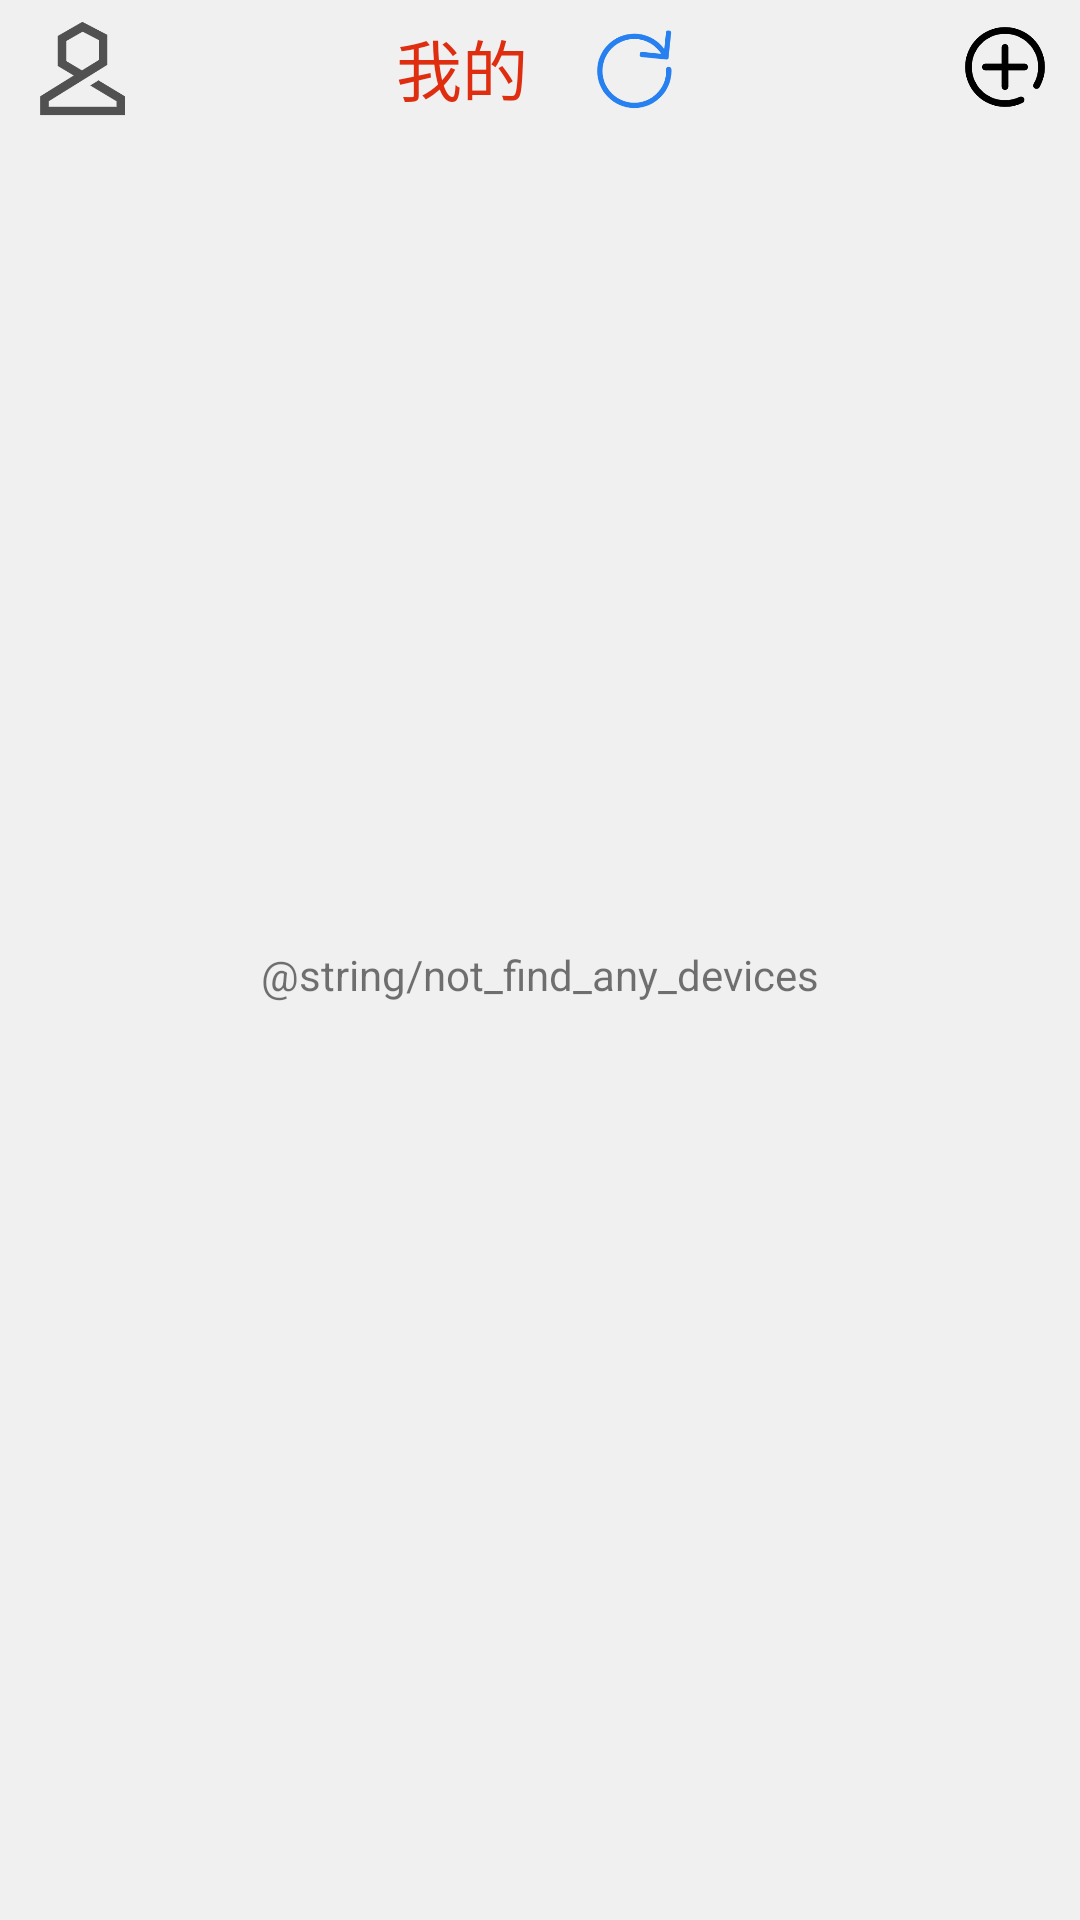

Screen size 1080w x 1920h. Icon name, then its center in pixels as (x,y):
add: (1005,67)
refresh: (634,69)
